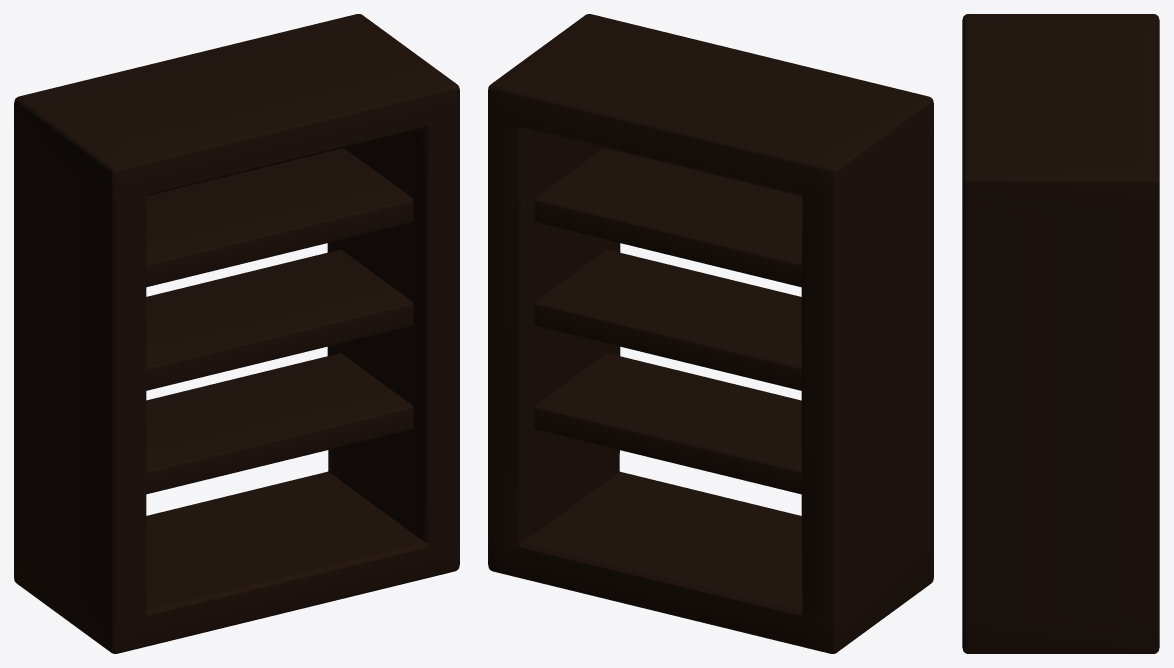
File: Shelves002.FBX
3 renders of one model, left to right at view 1: azimuth 30°, elevation 25°; view 2: azimuth 150°, elevation 25°; view 3: azimuth 270°, elevation 25°, orthographic. The views are drawn at different scales.
Parts seen in each view (by area): view 1: Shelves; view 2: Shelves; view 3: Shelves.
Boxes of the visible parts, x1=… form: Shelves: x1=14, y1=14, x2=459, y2=653; Shelves: x1=488, y1=14, x2=933, y2=653; Shelves: x1=962, y1=14, x2=1159, y2=653.
Size of the model in its own units: 30 by 40 by 15.
